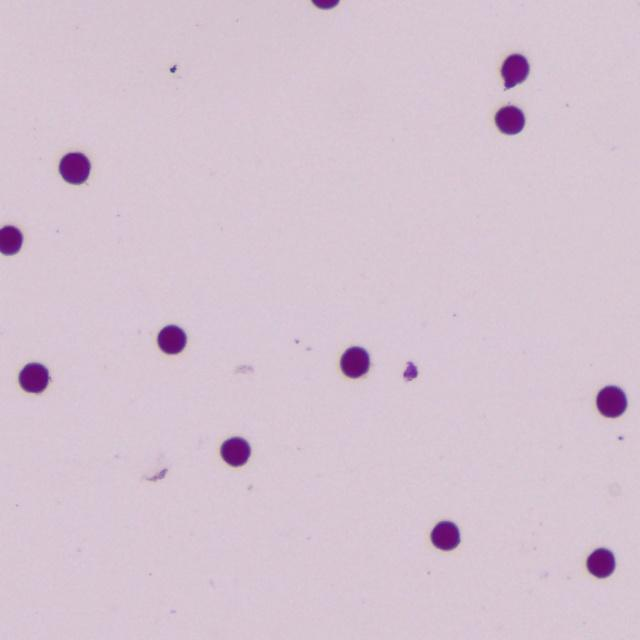viable: (59, 152, 90, 184), (596, 385, 626, 417), (501, 54, 528, 88), (340, 347, 369, 377), (19, 363, 48, 392), (221, 437, 250, 465), (431, 521, 459, 550), (496, 106, 524, 134), (587, 548, 614, 577), (158, 325, 185, 353), (0, 225, 22, 255), (312, 0, 339, 9)
